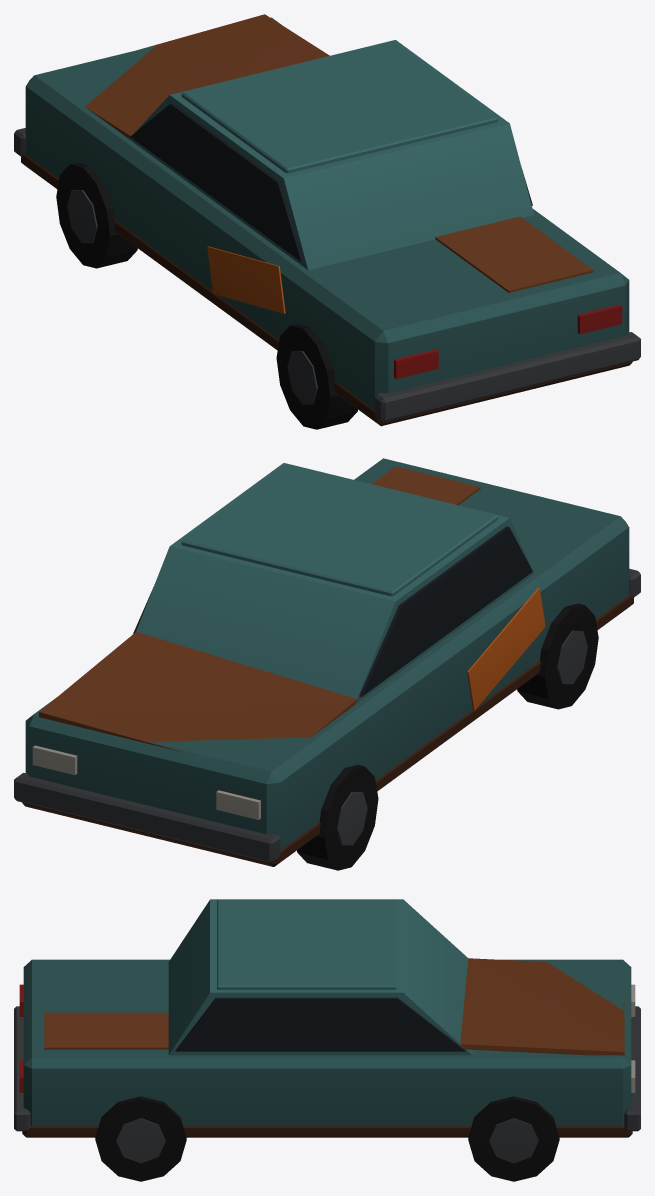
Rendered from car_wreck.glb.
3 renders of one model, top to bottom at view 1: azimuth 30°, elevation 25°; view 2: azimuth 150°, elevation 25°; view 3: azimuth 270°, elevation 25°, orthographic. The views are drawn at different scales.
Visible parts, largest first — view 1: car_wreck; view 2: car_wreck; view 3: car_wreck.
Boxes of the visible parts, x1=… form: car_wreck: x1=14, y1=14, x2=640, y2=429; car_wreck: x1=14, y1=458, x2=640, y2=870; car_wreck: x1=14, y1=899, x2=640, y2=1181.
Size of the model in its own units: 1.92 by 1.47 by 4.54.
